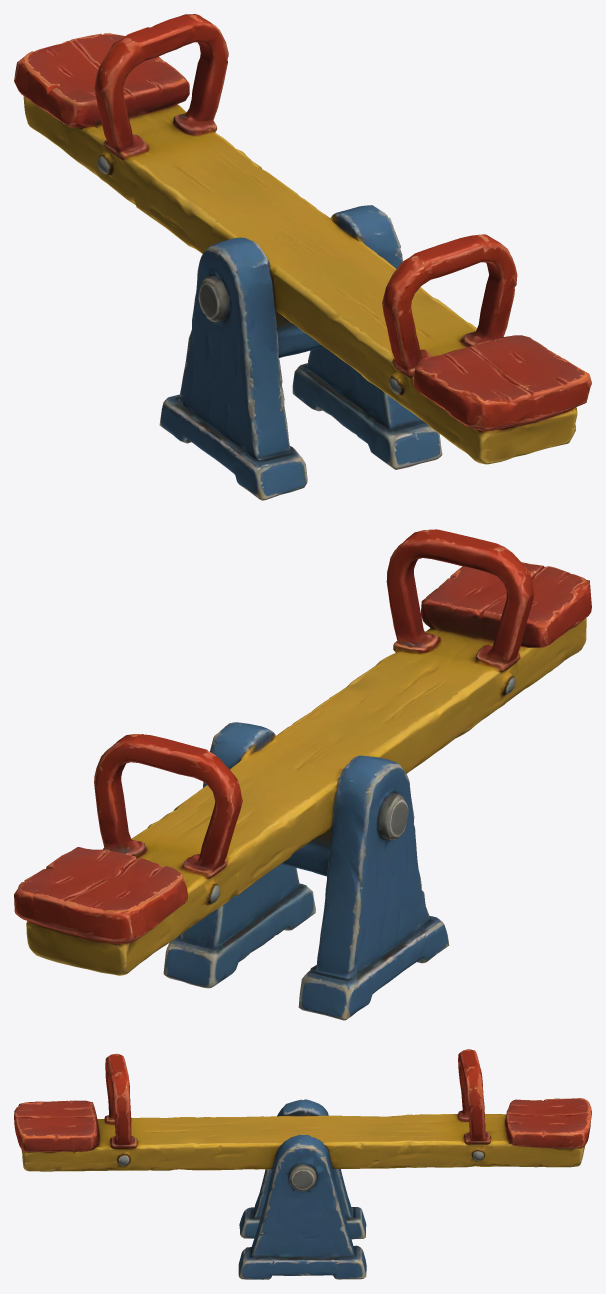
The model's file is subibaja.glb.
3 views of the same model, one above another, from view 1: azimuth 30°, elevation 25°; view 2: azimuth 150°, elevation 25°; view 3: azimuth 270°, elevation 25° (orthographic). The views are drawn at different scales.
Parts seen in each view (by area): view 1: tripo_node_c61ae9e5-7a7b-4eaa-878f-0bcddc613d56; view 2: tripo_node_c61ae9e5-7a7b-4eaa-878f-0bcddc613d56; view 3: tripo_node_c61ae9e5-7a7b-4eaa-878f-0bcddc613d56.
Boxes of the visible parts, x1,y1,x2,y2 form: tripo_node_c61ae9e5-7a7b-4eaa-878f-0bcddc613d56: (14,14,591,500); tripo_node_c61ae9e5-7a7b-4eaa-878f-0bcddc613d56: (14,529,591,1020); tripo_node_c61ae9e5-7a7b-4eaa-878f-0bcddc613d56: (14,1049,591,1279).
Bounding box in the file's own units: 0.2288 × 0.3731 × 1.
1 material, 1 textured.
